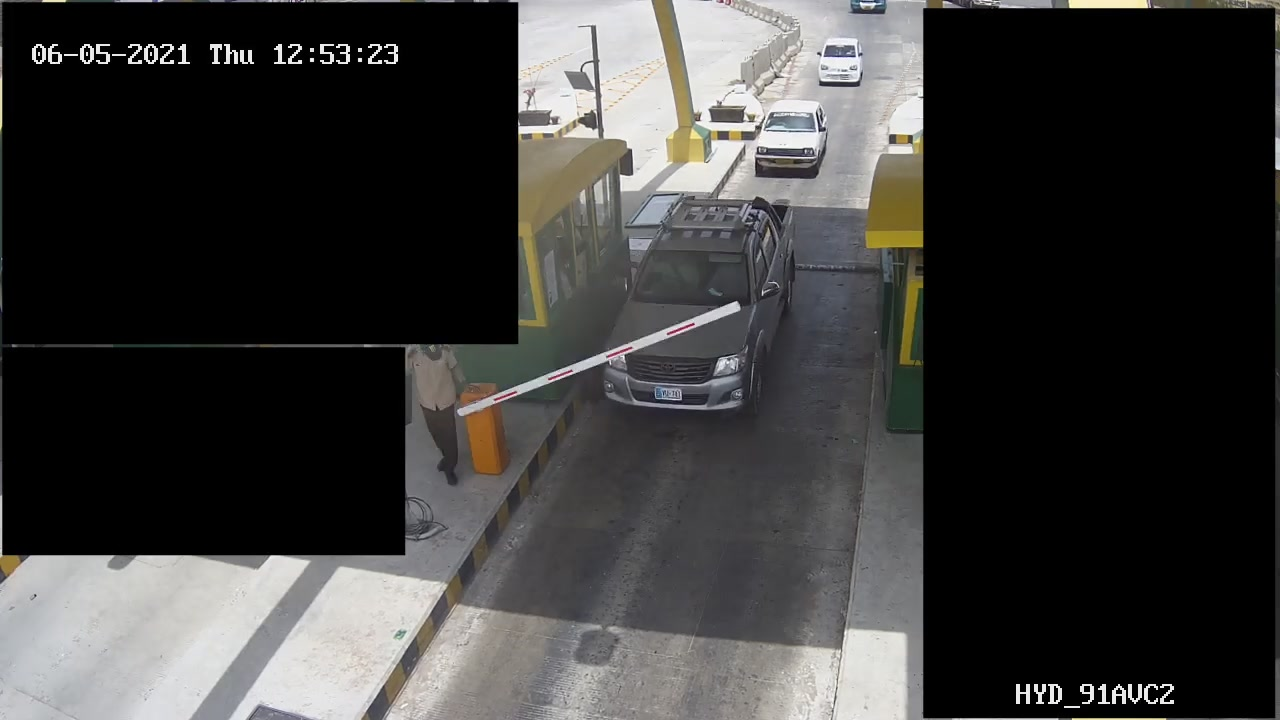F1: (610, 183, 791, 412), (739, 96, 831, 175)
